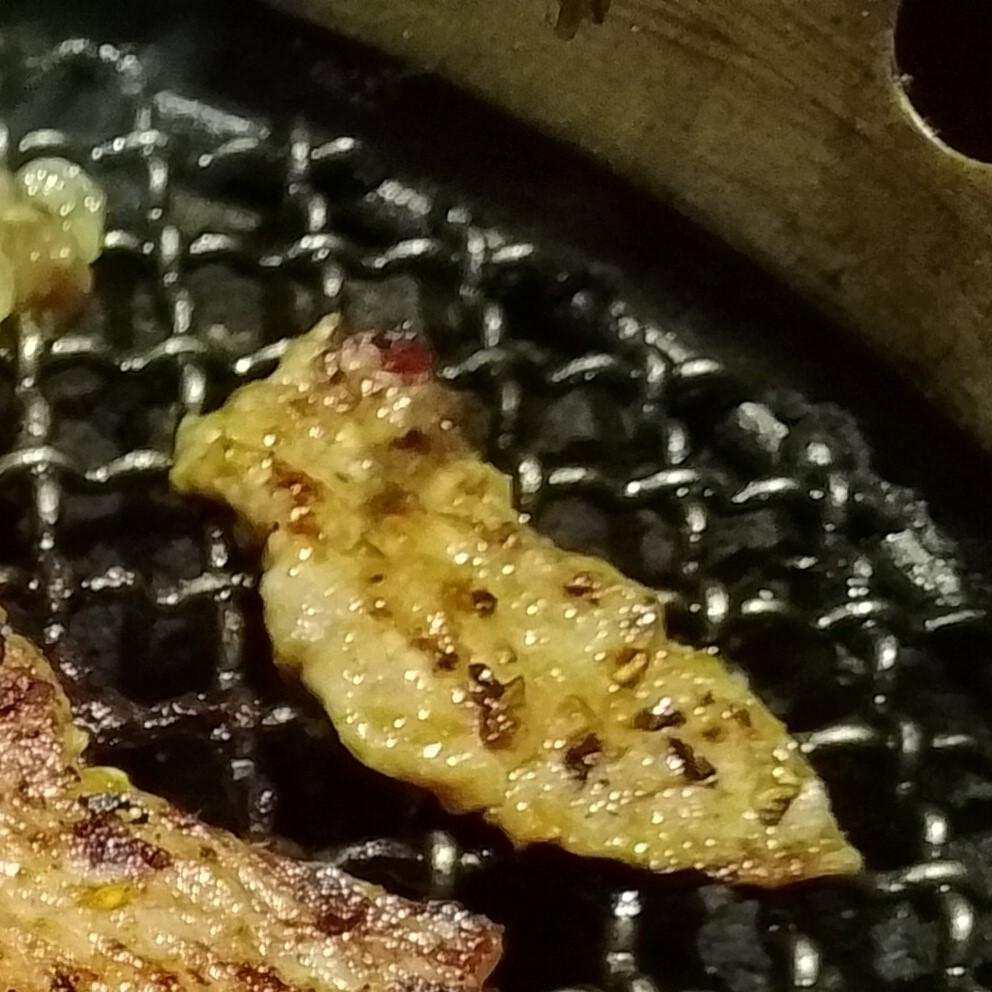Overcooked: (0, 638, 505, 991)
Well-Cooked: (168, 317, 864, 892)
